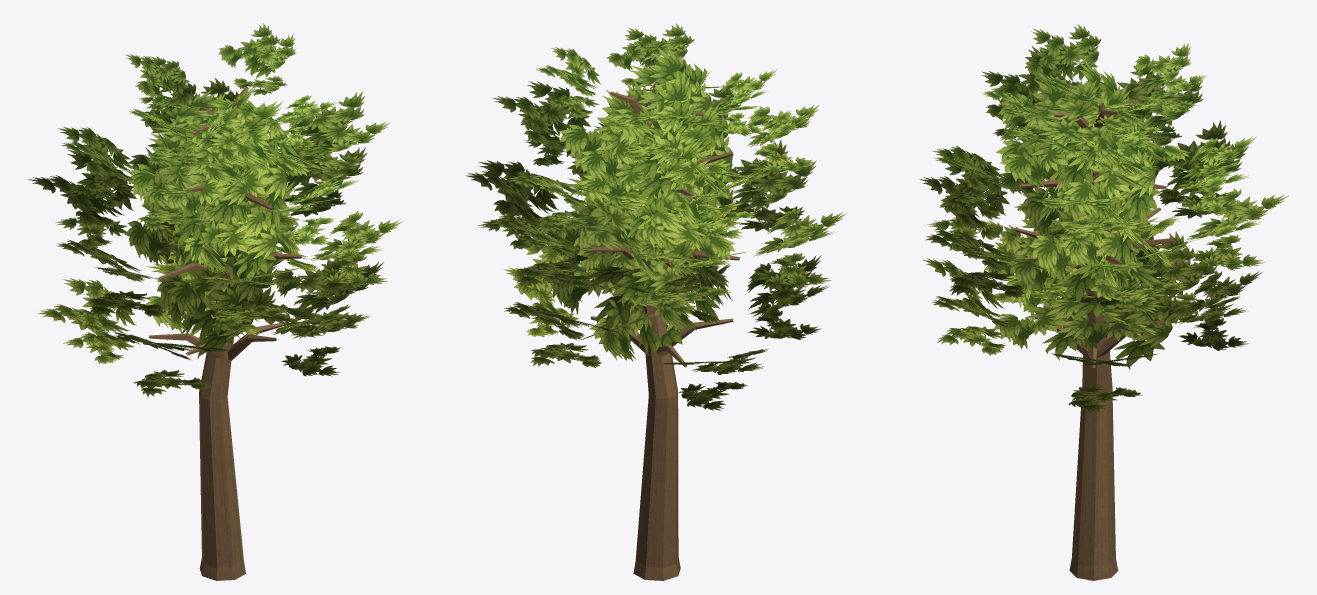
The model's file is maple2_t.glb.
The picture shows the model from 3 angles, left to right: view 1: azimuth 30°, elevation 25°; view 2: azimuth 150°, elevation 25°; view 3: azimuth 270°, elevation 25°; orthographic projection. The views are drawn at different scales.
Parts seen in each view (by area): view 1: maple2_t; view 2: maple2_t; view 3: maple2_t.
Part boxes in pixels (bbox=[...]): maple2_t: bbox=[28, 23, 402, 580]; maple2_t: bbox=[465, 23, 846, 580]; maple2_t: bbox=[919, 24, 1288, 580].
Bounding box in the file's own units: 3.64 × 4.89 × 3.48.
2 materials, 2 textured.
